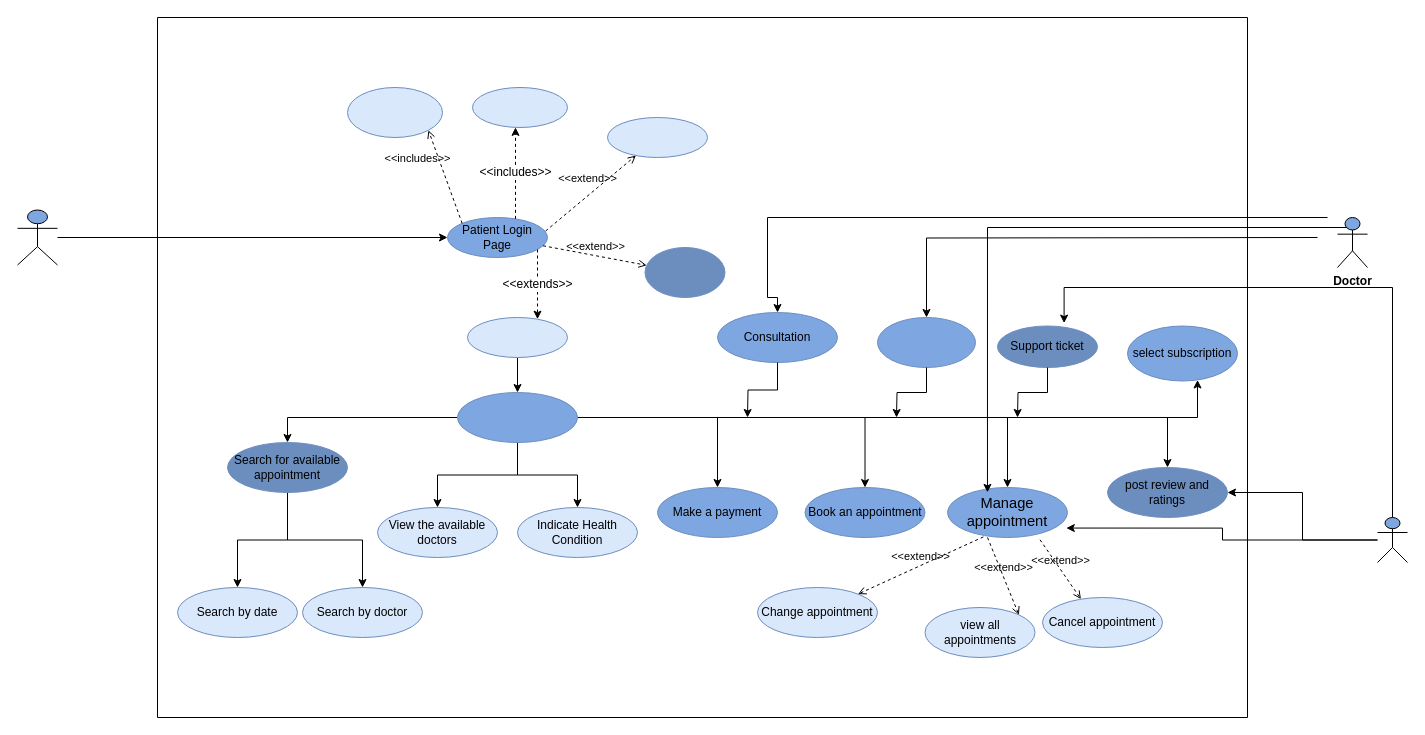
Some shapes in this 1425 by 735 pixel diagram are drawn without their labels. The shapes that lost their labels are listed below. From the top down, each one's box as (x1, y1, x2, y2) in pixels, then its label:
(346, 86, 442, 138): Enter username
(472, 86, 568, 128): Enter password
(606, 116, 708, 158): Login Fail
(16, 209, 58, 265): Patient
(644, 246, 725, 298): Registration
(466, 316, 568, 358): Login successful
(876, 316, 976, 368): view prescription
(456, 392, 578, 442): Patient Home page
(1376, 516, 1408, 562): Staff
